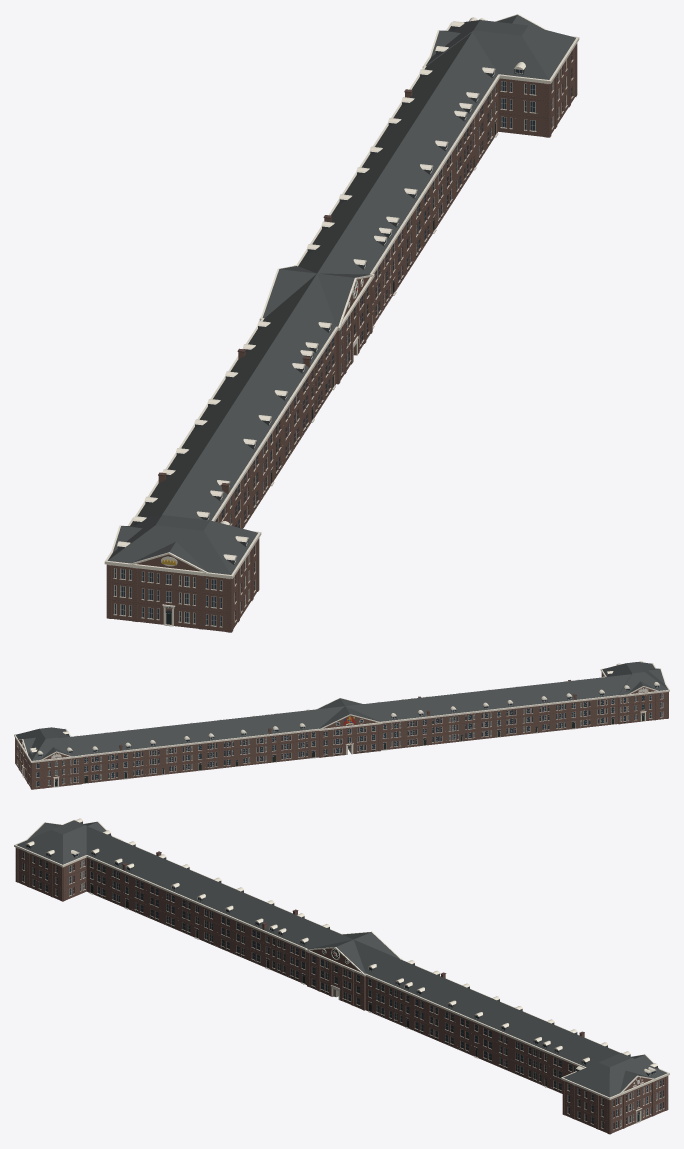
File: oranje-nassau-kazerne.glb
3 renders of one model, top to bottom at view 1: azimuth 30°, elevation 25°; view 2: azimuth 150°, elevation 25°; view 3: azimuth 270°, elevation 25°, orthographic. The views are drawn at different scales.
Visible parts, largest first — view 1: oranje-nassau-kazerne; view 2: oranje-nassau-kazerne; view 3: oranje-nassau-kazerne.
Part boxes in pixels (left/top/right/bottom): oranje-nassau-kazerne: left=104, top=14, right=579, bottom=632; oranje-nassau-kazerne: left=14, top=661, right=669, bottom=789; oranje-nassau-kazerne: left=14, top=818, right=669, bottom=1134.
Bounding box in the file's own units: 219 × 19.09 × 218.
